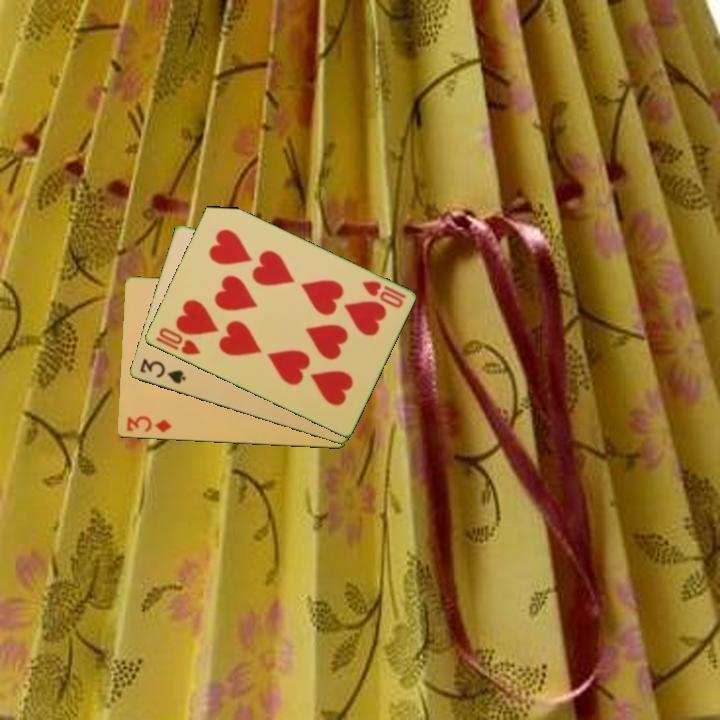10h: (152, 324, 203, 358), (358, 277, 409, 311)
3d: (123, 412, 174, 435)
3s: (136, 355, 188, 387)
